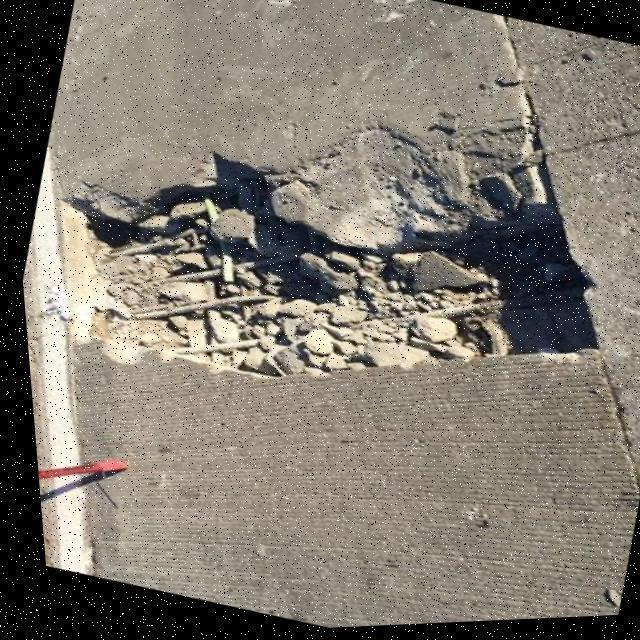Pothole: (66, 120, 595, 376)
